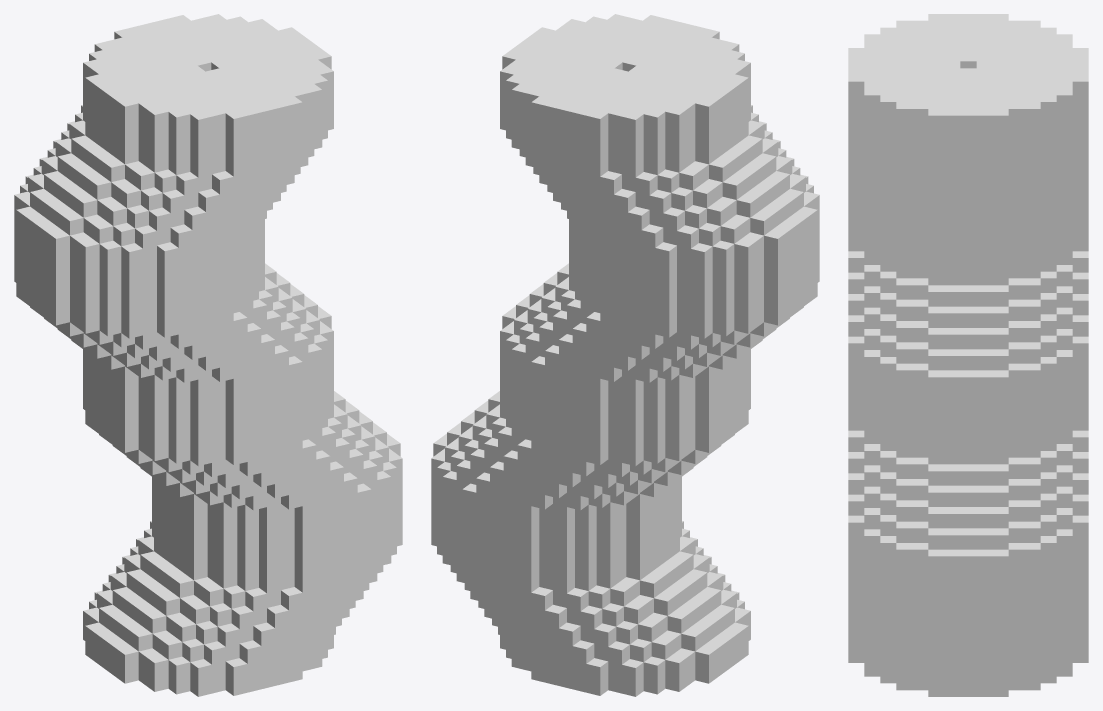
Rendered from cable_sinus_white.obj.
3 renders of one model, left to right at view 1: azimuth 30°, elevation 25°; view 2: azimuth 150°, elevation 25°; view 3: azimuth 270°, elevation 25°, orthographic.
Visible parts, largest first — view 1: cable_sinus_white; view 2: cable_sinus_white; view 3: cable_sinus_white.
Part boxes in pixels (x1=…): cable_sinus_white: x1=14, y1=14, x2=402, y2=696; cable_sinus_white: x1=431, y1=14, x2=819, y2=696; cable_sinus_white: x1=848, y1=14, x2=1088, y2=696.
Size of the model in its own units: 25 by 40 by 15.
Materials: 1 (1 with a texture image).
